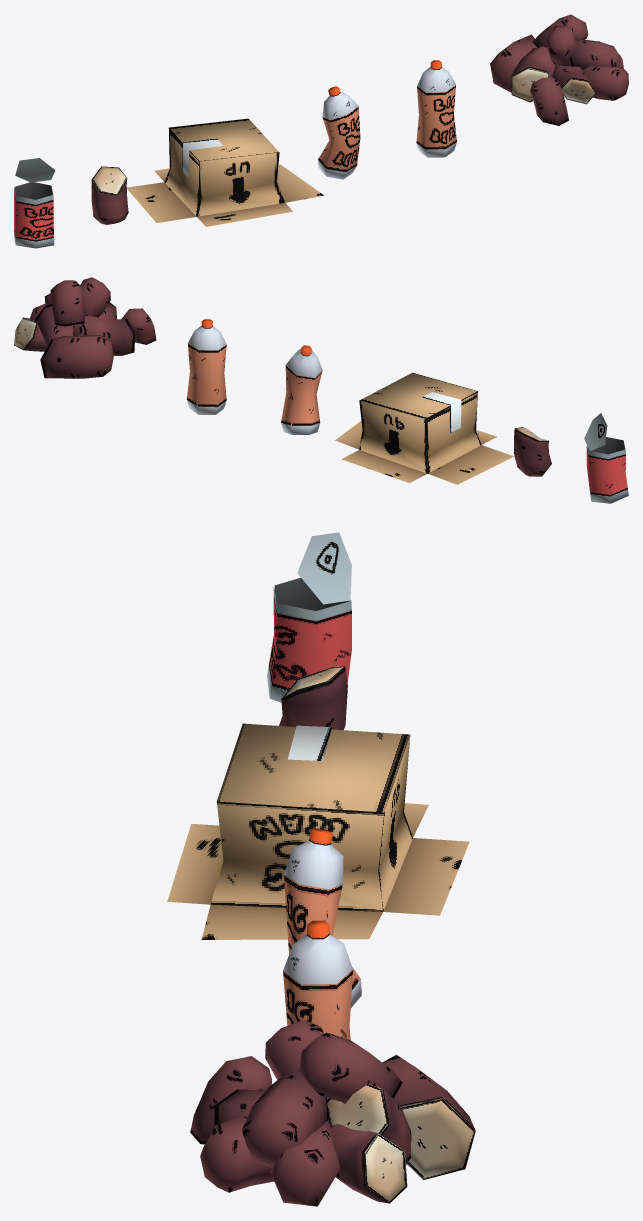
Rendered from TrashProps.glb.
The picture shows the model from 3 angles, top to bottom: view 1: azimuth 30°, elevation 25°; view 2: azimuth 150°, elevation 25°; view 3: azimuth 270°, elevation 25°; orthographic projection. The views are drawn at different scales.
Visible parts, largest first — view 1: CardboardBox, BeanPile, Bottle, BeanCan, BottleSmushed, BigBean; view 2: CardboardBox, BeanPile, Bottle, BottleSmushed, BeanCan, BigBean; view 3: CardboardBox, BeanPile, BeanCan, Bottle, BottleSmushed, BigBean.
Part boxes in pixels (x1,y1,x2,y2): CardboardBox: [126, 118, 323, 226]; BeanPile: [490, 14, 628, 125]; Bottle: [416, 60, 456, 157]; BeanCan: [14, 158, 55, 248]; BottleSmushed: [318, 86, 360, 179]; BigBean: [91, 166, 128, 224]; CardboardBox: [335, 372, 513, 484]; BeanPile: [14, 277, 156, 378]; Bottle: [186, 319, 226, 414]; BottleSmushed: [281, 345, 322, 434]; BeanCan: [584, 413, 628, 503]; BigBean: [514, 427, 551, 476]; CardboardBox: [167, 723, 469, 939]; BeanPile: [190, 1020, 475, 1206]; BeanCan: [267, 532, 351, 702]; Bottle: [283, 920, 352, 1040]; BottleSmushed: [284, 828, 361, 1008]; BigBean: [279, 666, 347, 730].
Bounding box in the file's own units: 5.37 × 0.8347 × 1.2.
Materials: 1 (1 with a texture image).
